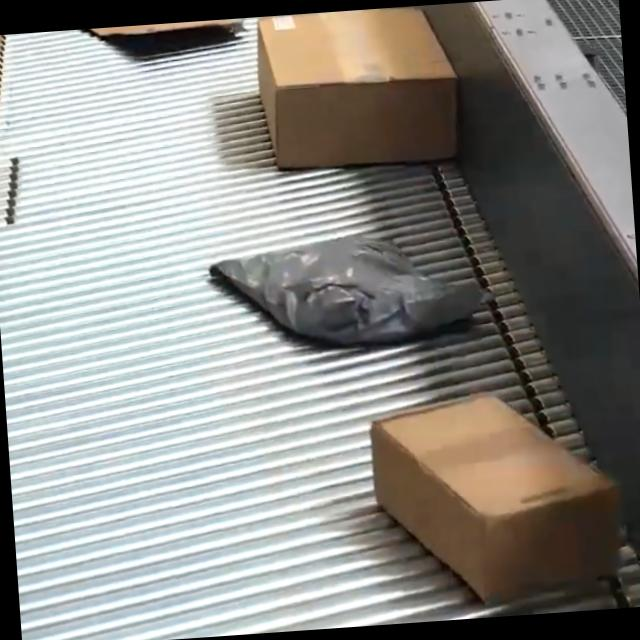box: (360, 379, 624, 604)
mailer: (256, 2, 462, 169), (210, 226, 486, 350), (77, 17, 242, 48)
